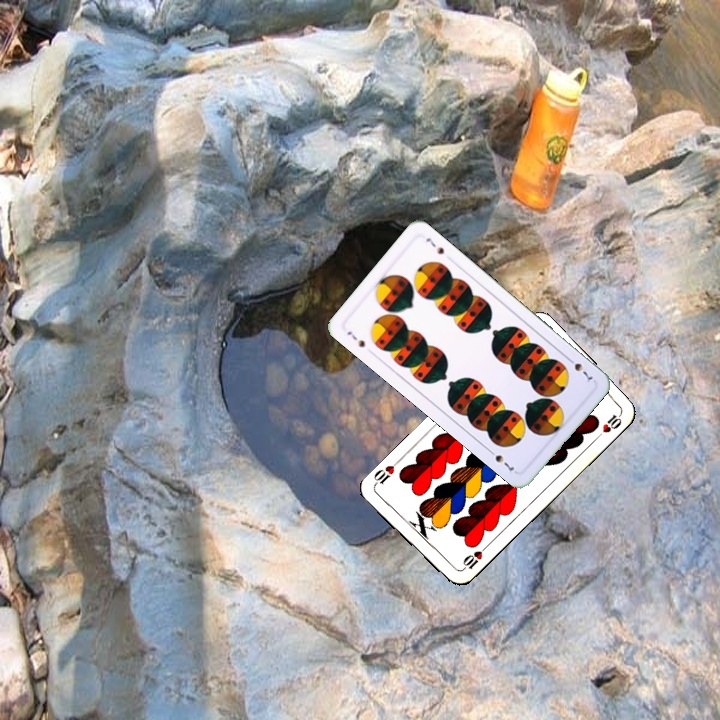H10: (456, 542, 490, 574)
S7: (563, 353, 595, 385), (343, 327, 368, 350)
